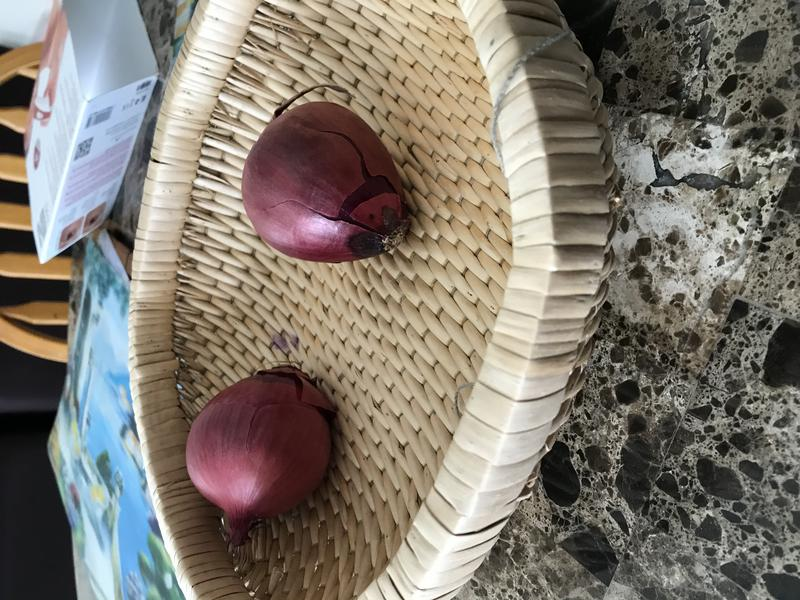purple_onion: (235, 91, 426, 271), (175, 354, 348, 552)
